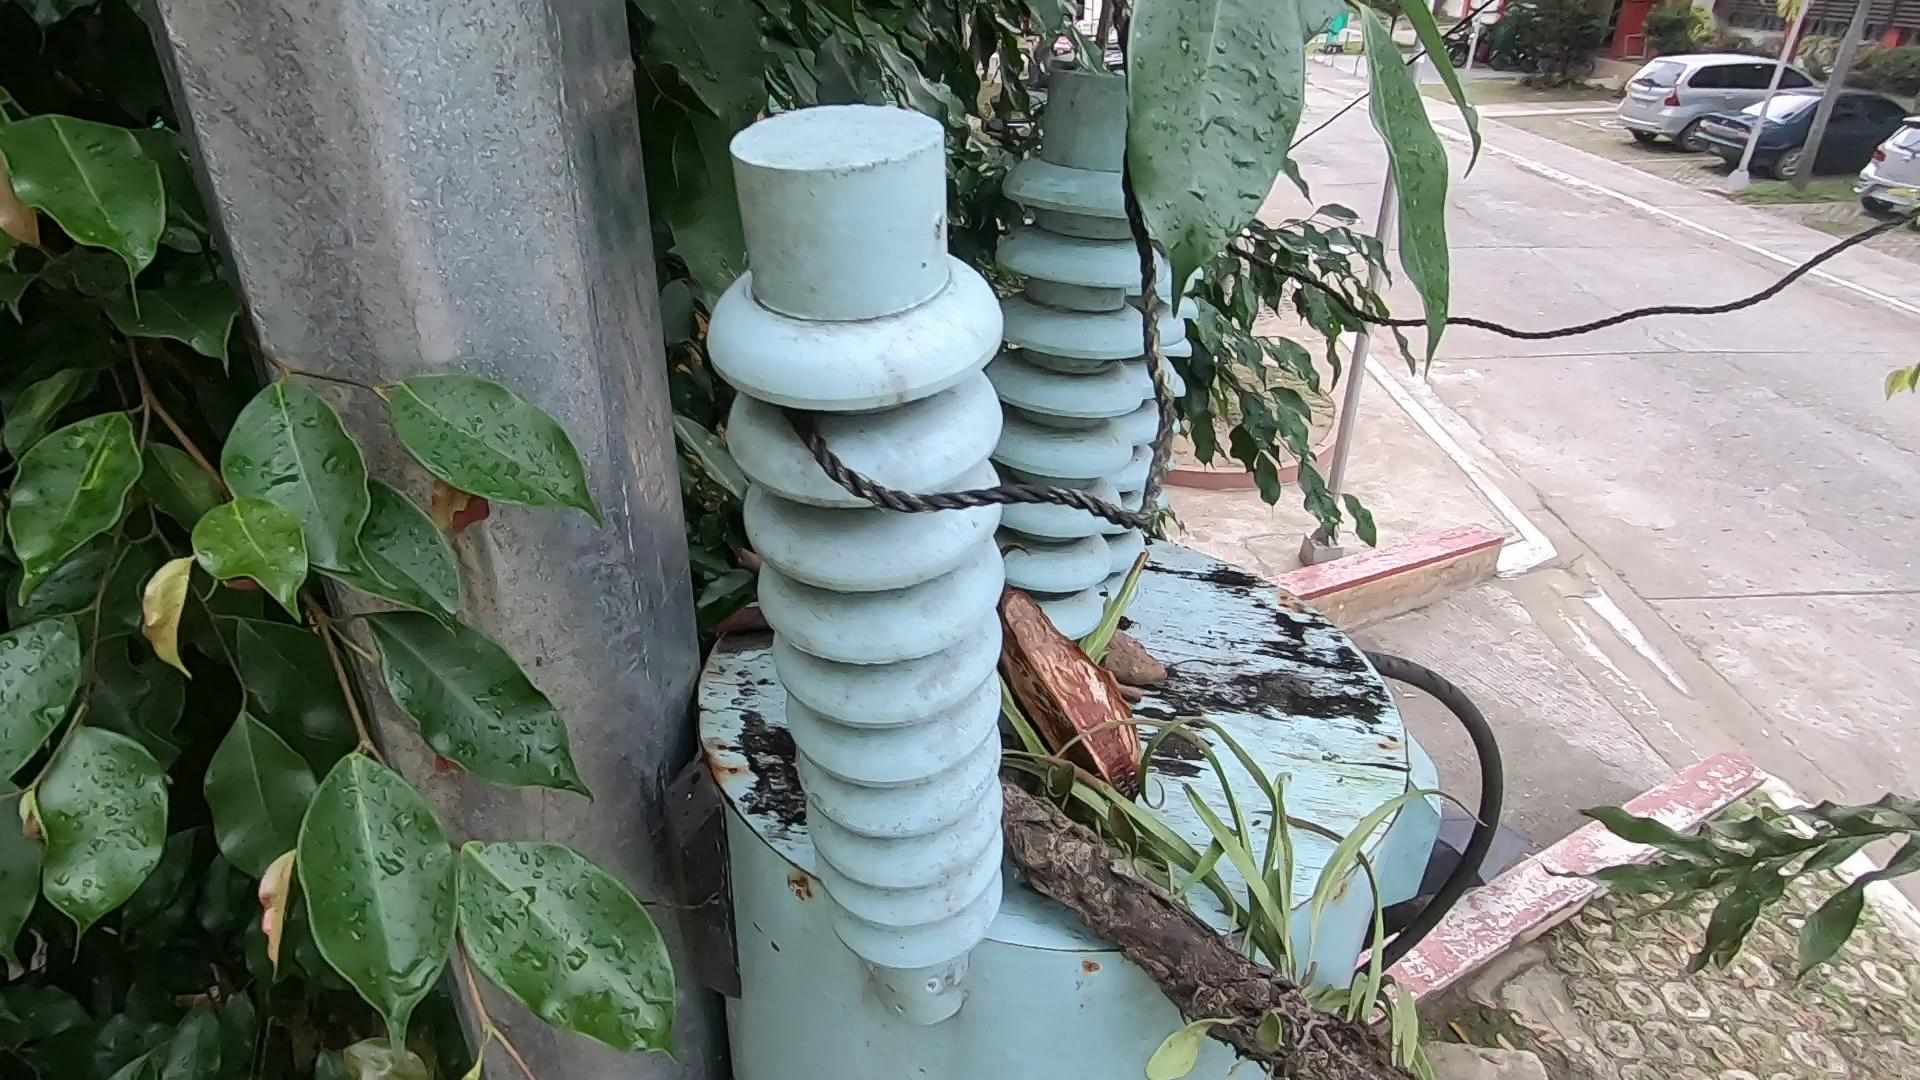branch with leaves: (993, 703, 1420, 1080)
leaf: (699, 609, 774, 642)
mahogany fruit: (956, 574, 1145, 822), (1077, 611, 1183, 727)
tree branch: (1102, 667, 1166, 740), (720, 524, 775, 589)
